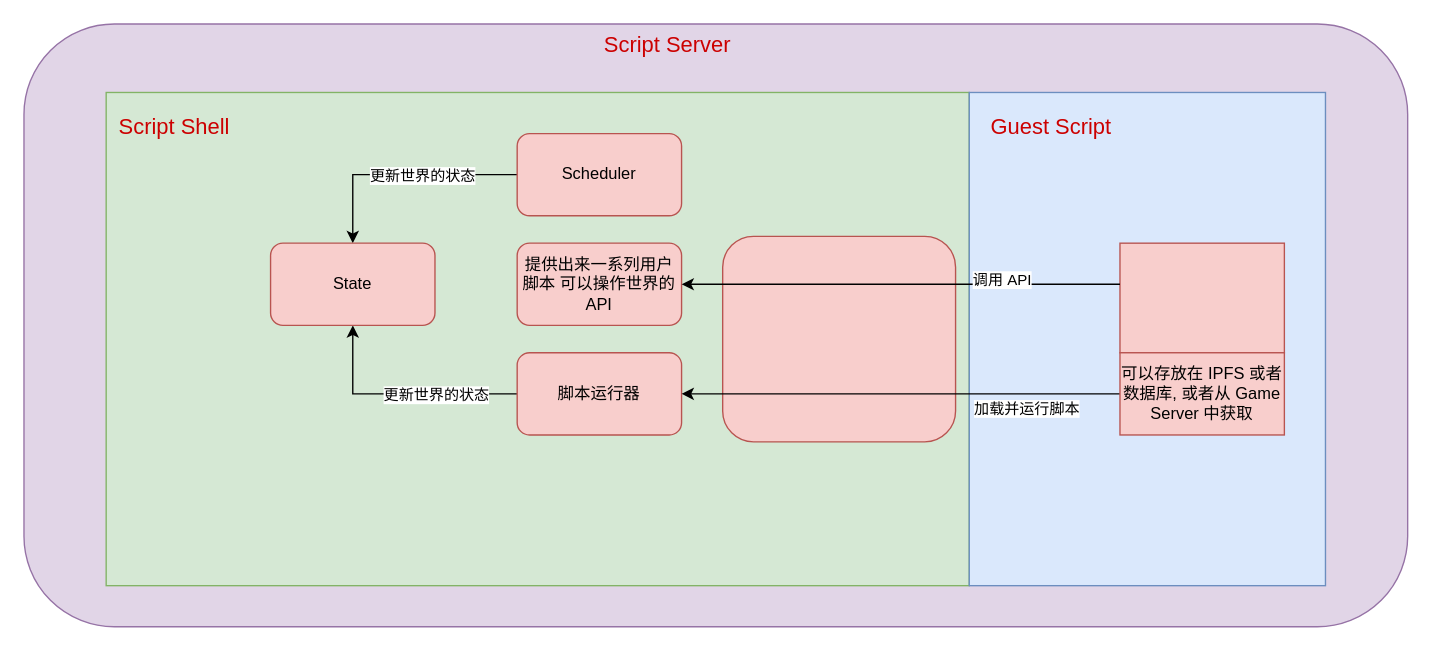
The diagram is 1432 pixels wide and 651 high, and some of its shapes have lost their labels. Each missing label, with the centre of its shape:
"GraalVm" belongs at pixel 838 338.
"用户编写的脚本 js 或其他语言" belongs at pixel 1201 297.
